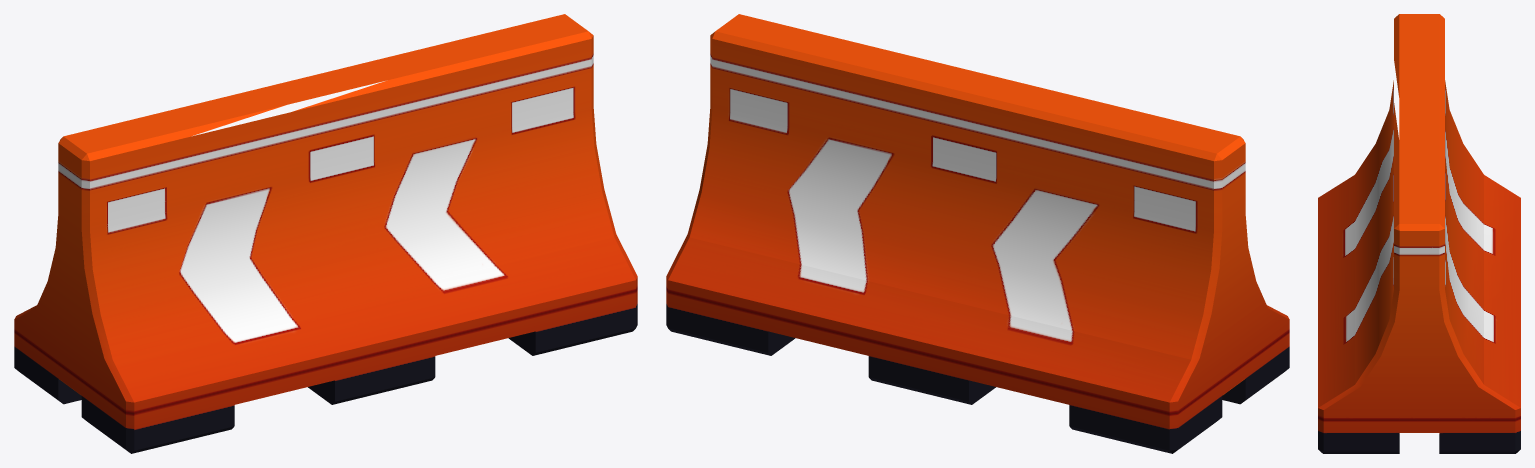
File: active.Barrier-02.glb
The picture shows the model from 3 angles, left to right: view 1: azimuth 30°, elevation 25°; view 2: azimuth 150°, elevation 25°; view 3: azimuth 270°, elevation 25°; orthographic projection. The views are drawn at different scales.
Parts seen in each view (by area): view 1: active.Barrier 02; view 2: active.Barrier 02; view 3: active.Barrier 02.
Part boxes in pixels (bbox=[...]): active.Barrier 02: bbox=[14, 14, 637, 453]; active.Barrier 02: bbox=[666, 14, 1289, 453]; active.Barrier 02: bbox=[1318, 14, 1520, 453].
Size of the model in its own units: 1.33 by 0.6667 by 0.5333.
Materials: 1 (1 with a texture image).
